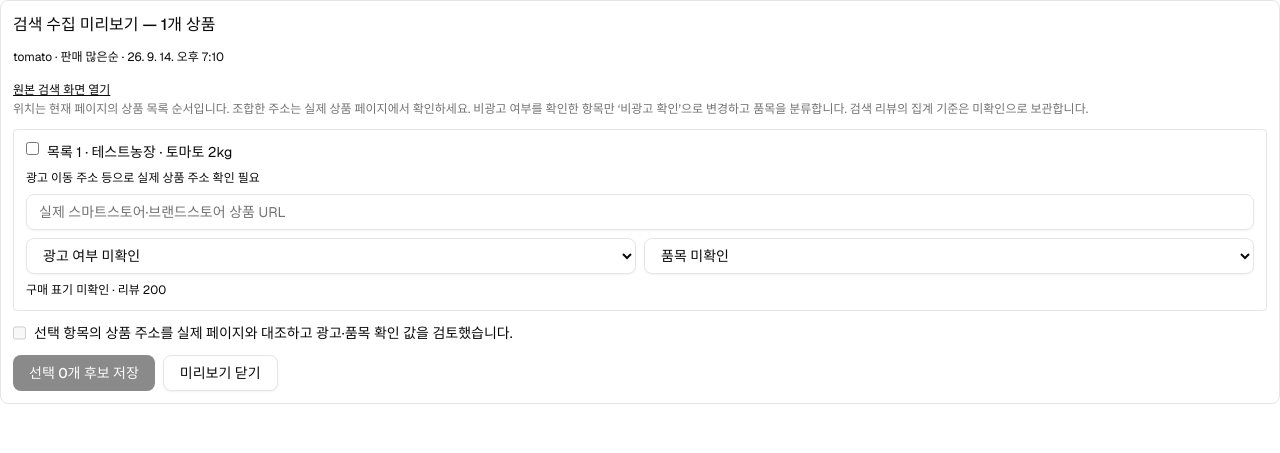
Test: search capture review › rejects unresolved URLs and rechecks freshness at save time
Click the checkbox labelled "목록 1 · 테스트농장 · 토마토 2kg": (32, 148) [26,142,39,155]
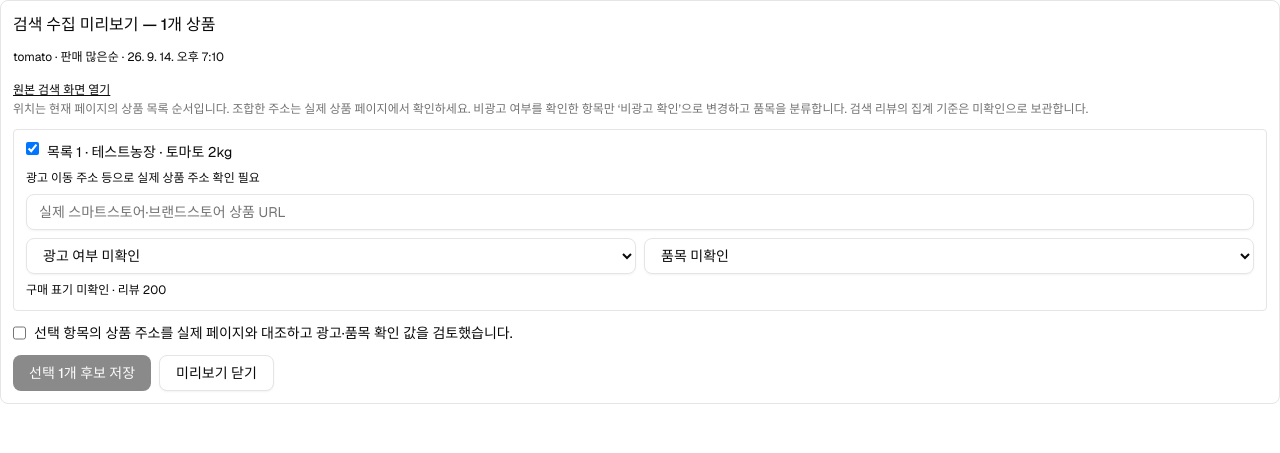
Click the checkbox labelled "선택 항목의 상품 주소를 실제 페이지와 대조하고 광고·품목 확인 값을 검토했습니다.": (20, 333) [13,323,26,343]
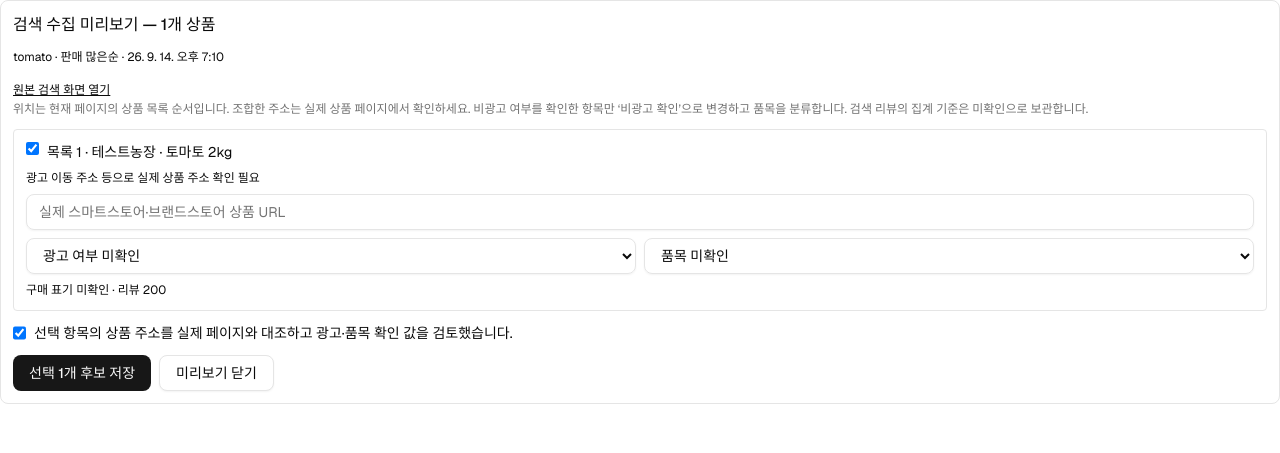
Click the button "선택 1개 후보 저장": (82, 373) [13,355,151,391]
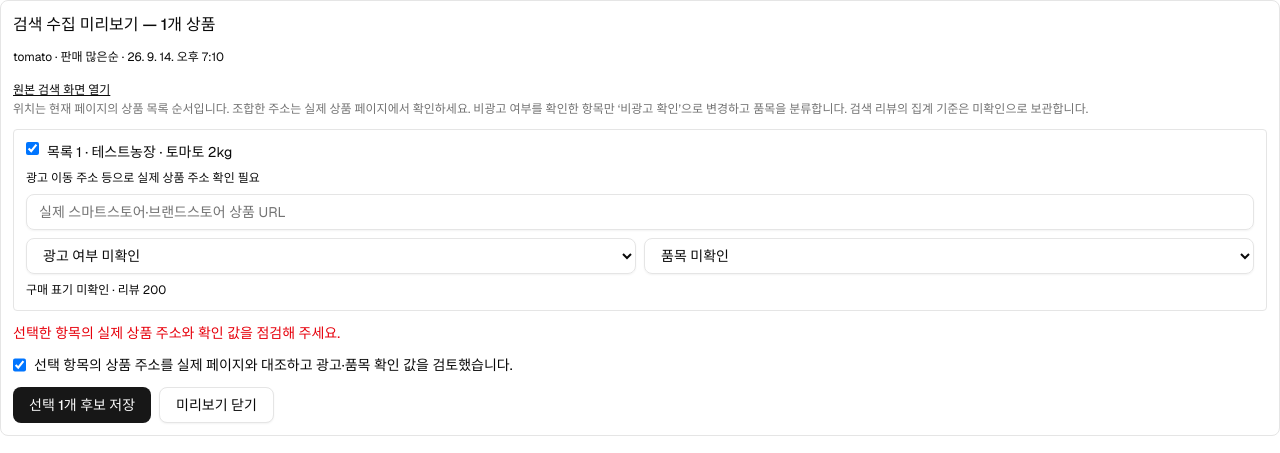
Expected: the message shows "실제 상품 주소", [13,324,340,342]
In the field named "목록 1 실제 상품 주소": (640, 212) [26,194,1254,230], type "https://smartstore.naver.com/farm-a/products/1"
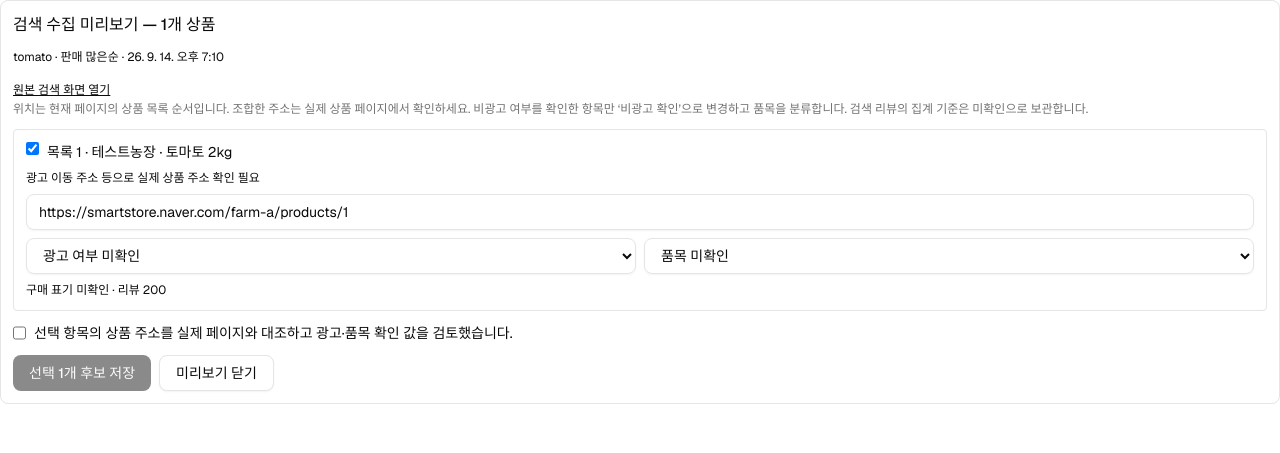
Click the checkbox labelled "선택 항목의 상품 주소를 실제 페이지와 대조하고 광고·품목 확인 값을 검토했습니다.": (20, 333) [13,323,26,343]
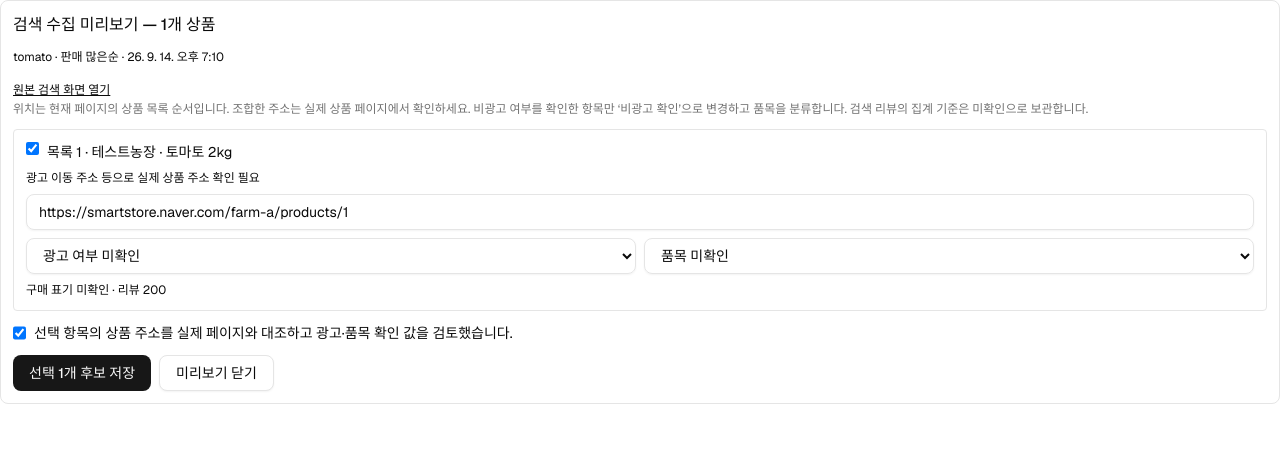
Click the button "선택 1개 후보 저장": (82, 373) [13,355,151,391]
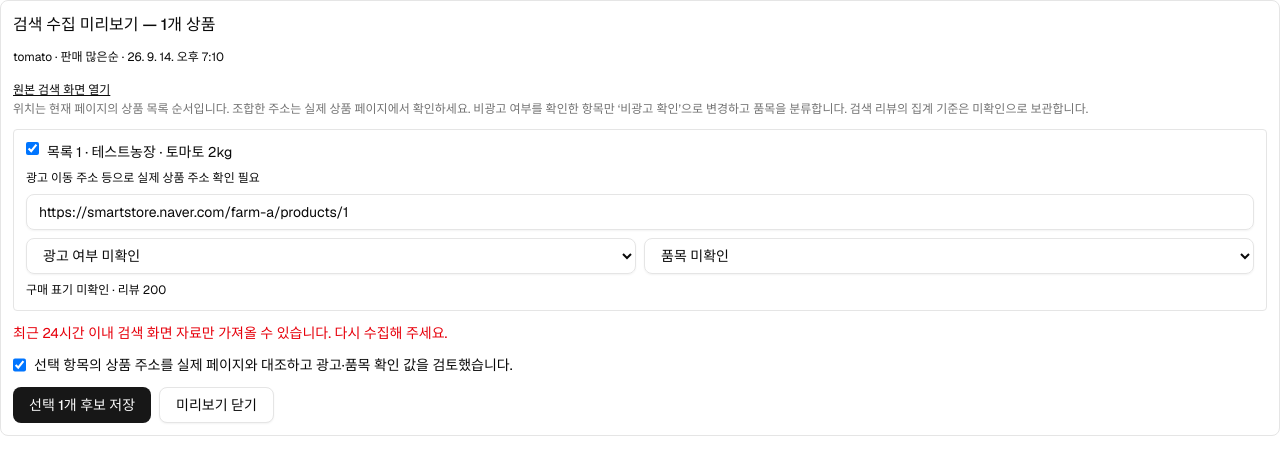
Expected: the message shows "24시간", [13,324,447,342]
